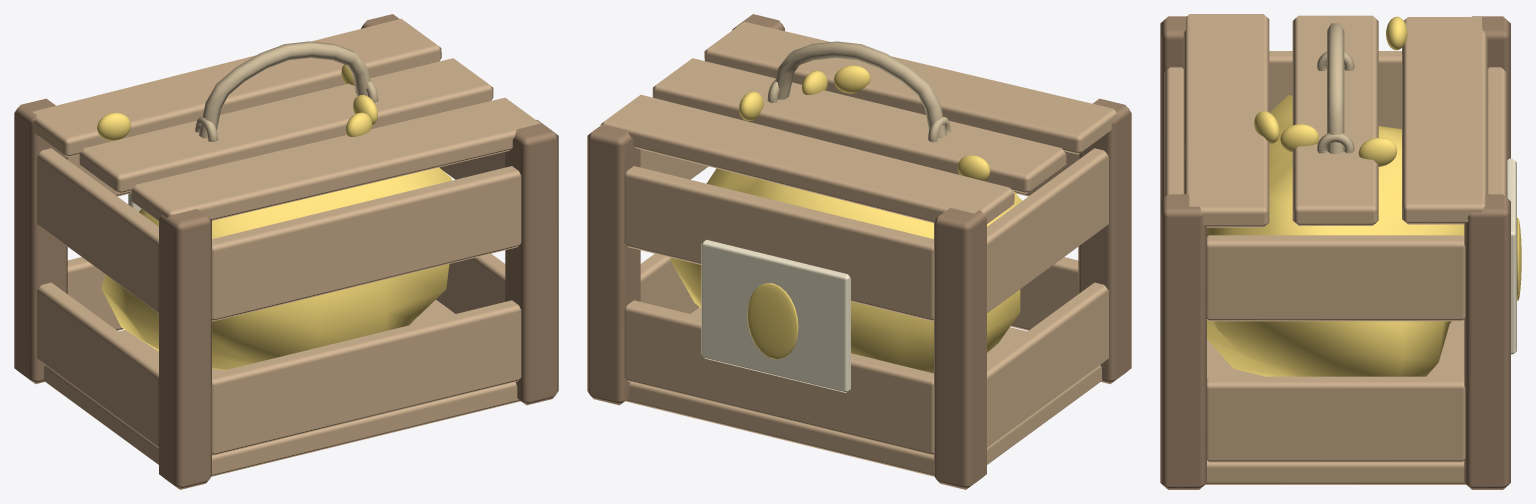
The model's file is item-chimkin-stand.glb.
3 views of the same model, side by side, from view 1: azimuth 30°, elevation 25°; view 2: azimuth 150°, elevation 25°; view 3: azimuth 270°, elevation 25° (orthographic). The views are drawn at different scales.
Bounding box in the file's own units: 0.24 × 0.2029 × 0.1855.
